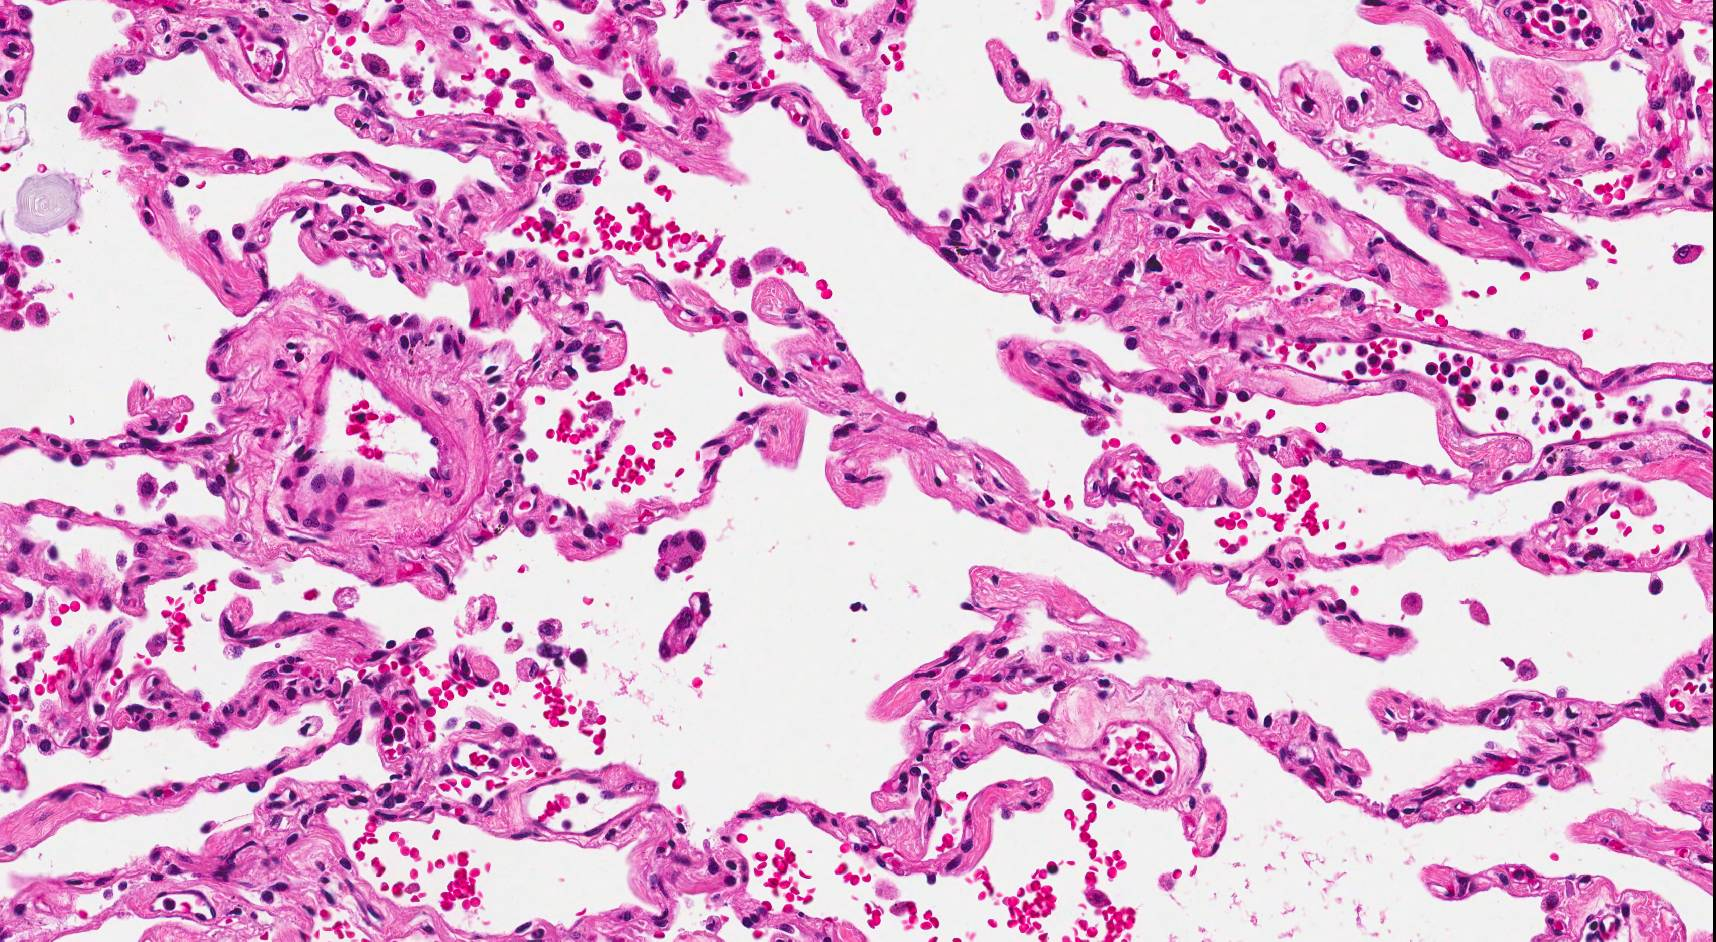stas: (653, 589, 724, 665), (652, 528, 712, 582)
